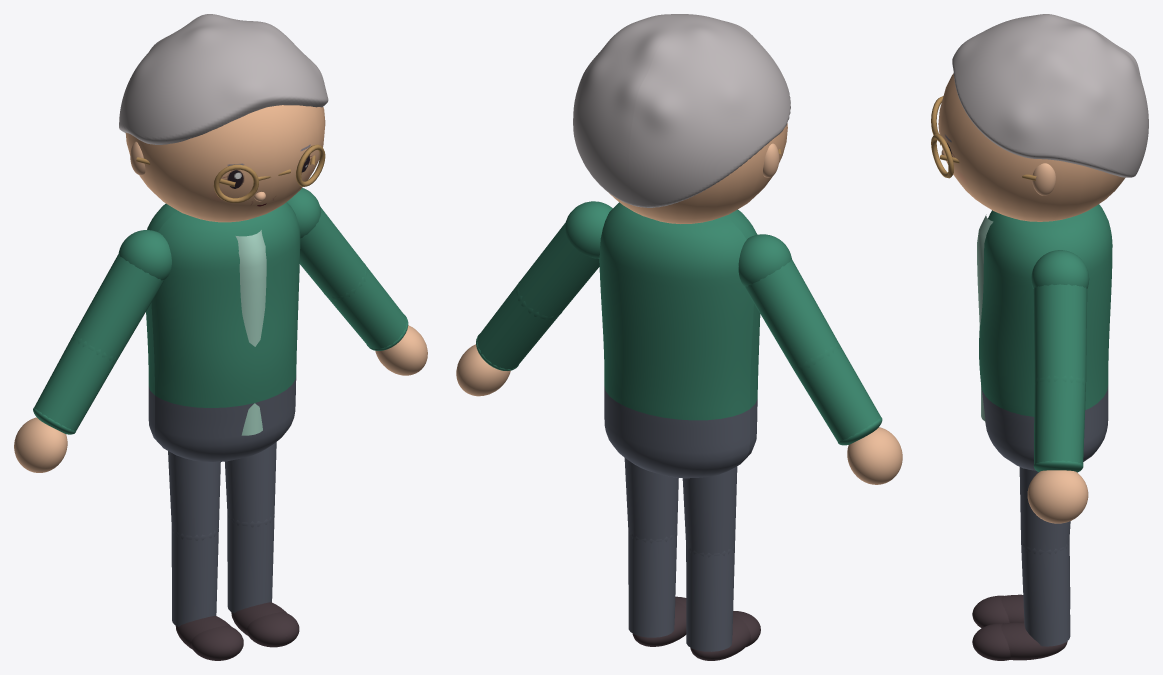
Rendered from qing_old.glb.
3 renders of one model, left to right at view 1: azimuth 30°, elevation 25°; view 2: azimuth 150°, elevation 25°; view 3: azimuth 270°, elevation 25°, orthographic. The views are drawn at different scales.
Visible parts, largest first — view 1: torso, hair, head, pelvis, upper_arm_R, upper_arm_L, lower_arm_R, thigh_R, shin_L, shin_R, thigh_L, lower_arm_L (+4 smaller); view 2: hair, torso, pelvis, upper_arm_R, upper_arm_L, lower_arm_R, shin_L, shin_R, head, thigh_R, thigh_L, lower_arm_L (+4 smaller); view 3: hair, torso, head, upper_arm_L, lower_arm_L, shin_L, pelvis, hand_L, shoe_L, thigh_L, shoe_R.
Part boxes in pixels (bbox=[...]): torso: bbox=[146, 202, 300, 435]; hair: bbox=[119, 14, 328, 144]; head: bbox=[125, 105, 325, 222]; pelvis: bbox=[148, 375, 296, 461]; upper_arm_R: bbox=[72, 230, 171, 362]; upper_arm_L: bbox=[287, 188, 367, 300]; lower_arm_R: bbox=[33, 336, 115, 434]; thigh_R: bbox=[168, 451, 220, 540]; shin_L: bbox=[227, 515, 274, 613]; shin_R: bbox=[171, 529, 218, 626]; thigh_L: bbox=[225, 442, 276, 527]; lower_arm_L: bbox=[327, 266, 408, 350]; hair: bbox=[573, 14, 790, 207]; torso: bbox=[599, 202, 760, 420]; pelvis: bbox=[604, 386, 757, 478]; upper_arm_R: bbox=[738, 234, 839, 372]; upper_arm_L: bbox=[516, 201, 612, 320]; lower_arm_R: bbox=[794, 343, 882, 445]; shin_L: bbox=[628, 532, 677, 637]; shin_R: bbox=[686, 546, 734, 651]; head: bbox=[609, 123, 787, 223]; thigh_R: bbox=[682, 466, 737, 557]; thigh_L: bbox=[624, 458, 678, 543]; lower_arm_L: bbox=[476, 284, 558, 370]; hair: bbox=[952, 14, 1148, 177]; torso: bbox=[977, 204, 1112, 421]; head: bbox=[931, 73, 1125, 221]; upper_arm_L: bbox=[1031, 250, 1089, 385]; lower_arm_L: bbox=[1033, 378, 1085, 472]; shin_L: bbox=[1021, 542, 1070, 646]; pelvis: bbox=[981, 385, 1108, 470]; hand_L: bbox=[1027, 470, 1088, 523]; shoe_L: bbox=[972, 622, 1067, 660]; thigh_L: bbox=[1019, 467, 1070, 554]; shoe_R: bbox=[972, 594, 1024, 628].
Size of the model in its own units: 1.16 by 1.63 by 0.5213.
8 materials, 1 textured.
